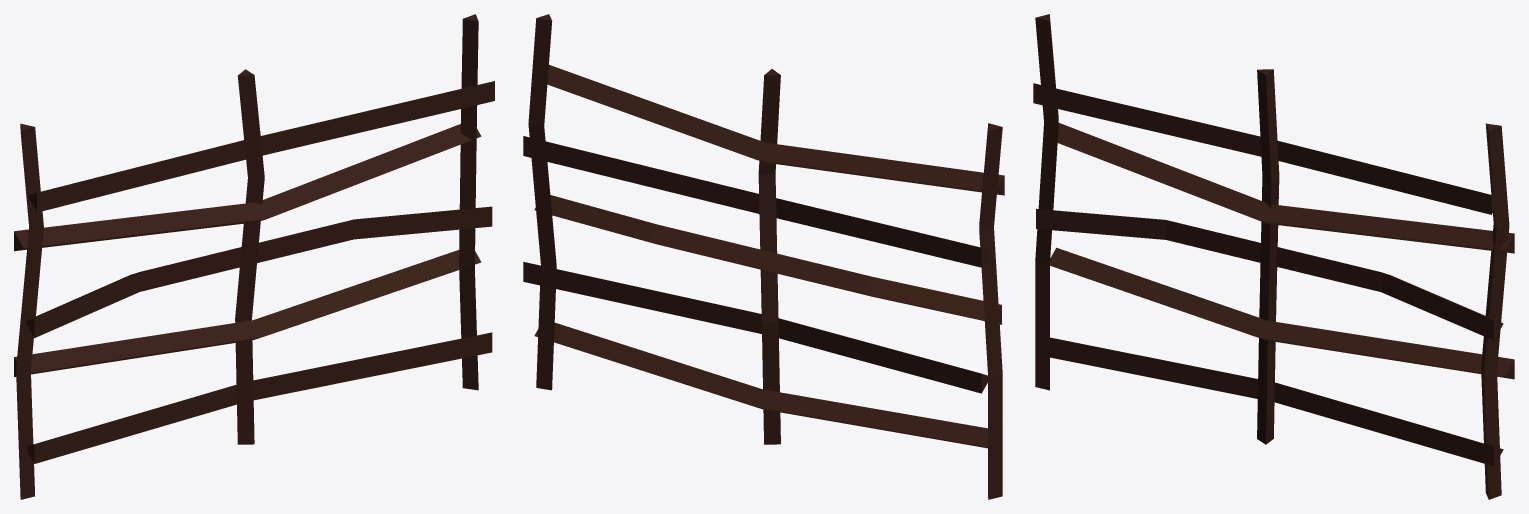
The model's file is 1m_WattleFence.fbx.
3 views of the same model, side by side, from view 1: azimuth 30°, elevation 25°; view 2: azimuth 150°, elevation 25°; view 3: azimuth 330°, elevation 25° (orthographic).
Parts seen in each view (by area): view 1: 1m_WattleFence; view 2: 1m_WattleFence; view 3: 1m_WattleFence.
Boxes of the visible parts, x1,y1,x2,y2 form: 1m_WattleFence: [14, 14, 494, 499]; 1m_WattleFence: [523, 14, 1004, 499]; 1m_WattleFence: [1033, 14, 1514, 499].
Bounding box in the file's own units: 102 × 77.11 × 10.61.
